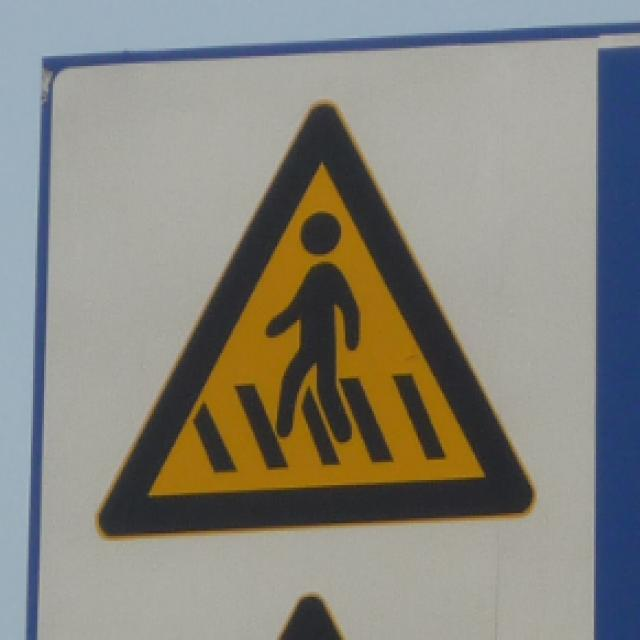Crossing: (76, 96, 568, 546)
